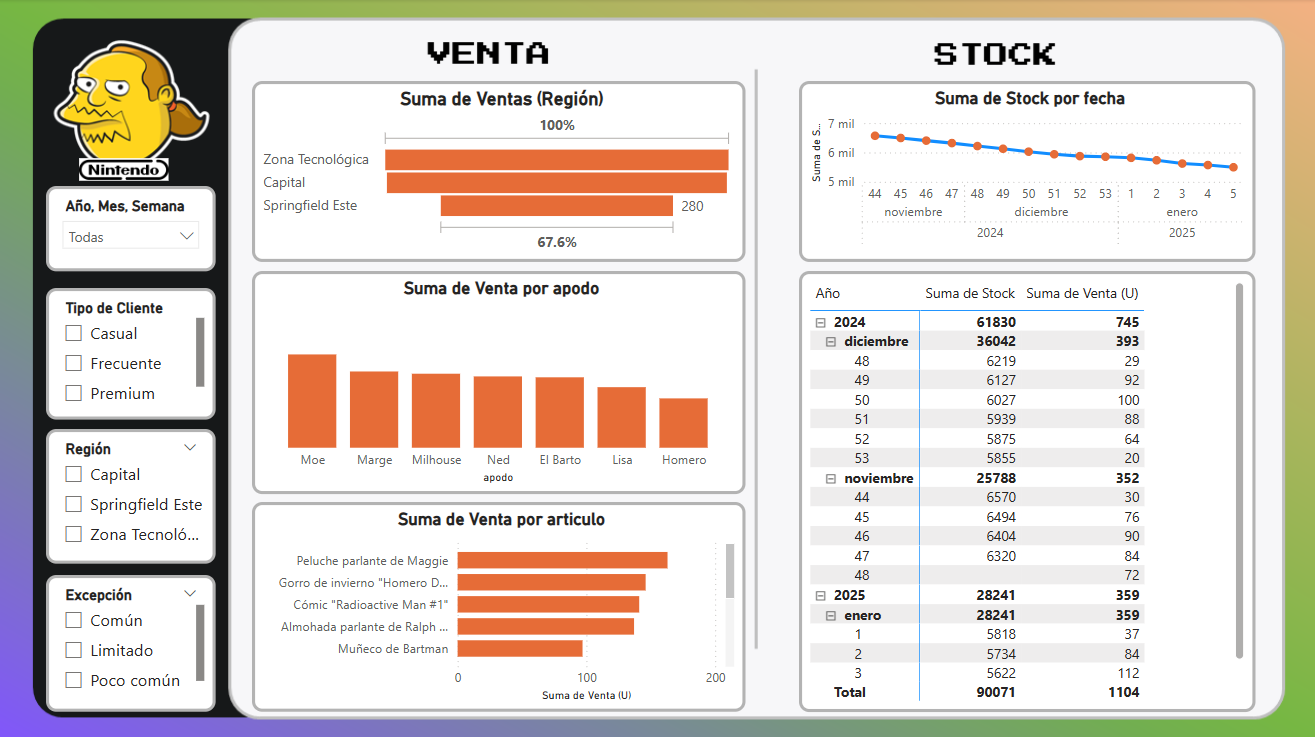

What the dashboard file says about the page in this screenshot:
{"tool":"powerbi","page":{"name":"Página 1","canvas":[1280,720],"ordinal":0},"visuals":[{"type":"funnel","title":"Suma de Ventas (Región)","fields":{"Y":["Ventas.Venta (U)"],"Category":["Locales.región"]},"box":[245.1,79.8,479.5,176],"z":0},{"type":"clusteredColumnChart","title":"Suma de Venta por apodo","fields":{"Category":["Clientes.apodo"],"Y":["Ventas.Venta (U)"]},"box":[245.1,264.6,479.5,216.9],"z":1000},{"type":"clusteredBarChart","title":"Suma de Venta por articulo","fields":{"Category":["Productos.nombre_articulo"],"Y":["Ventas.Venta (U)"]},"box":[245.1,489.2,479.5,204.3],"z":2000},{"type":"slicer","fields":{"Values":["Calendario.Año","Calendario.Mes","Calendario.Semana"]},"box":[44.7,181.9,165.3,82.7],"z":3000},{"type":"slicer","fields":{"Values":["Clientes.tipo_cliente"]},"box":[44.7,281.1,165.3,128.4],"z":4000},{"type":"slicer","fields":{"Values":["Locales.región"]},"box":[44.7,418.2,165.3,131.3],"z":5000},{"type":"slicer","fields":{"Values":["Productos.rareza"]},"box":[44.7,560.2,165.3,133.3],"z":6000},{"type":"lineChart","title":"Suma de Stock por fecha","fields":{"Y":["Stock.Stock"],"Category":["Calendario.Año","Calendario.Mes","Calendario.Semana"]},"box":[777.1,79.8,443.5,176],"z":7000},{"type":"pivotTable","fields":{"Rows":["Calendario.Año","Calendario.Mes","Calendario.Semana"],"Values":["Stock.Stock","Ventas.Venta (U)"]},"box":[777.1,264.6,443.5,428.9],"z":8000},{"type":"image","box":[37.9,149.8,165.3,32.1],"z":8001}]}

Visuals, with their boxes in screenshot pixels (x1, y1, x2, y2), scaled from the page's 1280x720 canvas onto the 1315x737 screenshot:
"Suma de Ventas (Región)" funnel: {"x1": 252, "y1": 82, "x2": 744, "y2": 262}
"Suma de Venta por apodo" clusteredColumnChart: {"x1": 252, "y1": 271, "x2": 744, "y2": 493}
"Suma de Venta por articulo" clusteredBarChart: {"x1": 252, "y1": 501, "x2": 744, "y2": 710}
slicer - Calendario.Año x Calendario.Mes: {"x1": 46, "y1": 186, "x2": 216, "y2": 271}
slicer - Clientes.tipo_cliente: {"x1": 46, "y1": 288, "x2": 216, "y2": 419}
slicer - Locales.región: {"x1": 46, "y1": 428, "x2": 216, "y2": 562}
slicer - Productos.rareza: {"x1": 46, "y1": 573, "x2": 216, "y2": 710}
"Suma de Stock por fecha" lineChart: {"x1": 798, "y1": 82, "x2": 1254, "y2": 262}
pivotTable - Calendario.Año x Calendario.Mes: {"x1": 798, "y1": 271, "x2": 1254, "y2": 710}
image: {"x1": 39, "y1": 153, "x2": 209, "y2": 186}
